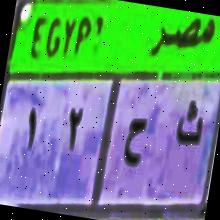1: (15, 101, 46, 163)
2: (54, 100, 91, 158)
7aa: (114, 103, 154, 184)
thaa: (170, 96, 208, 165)
